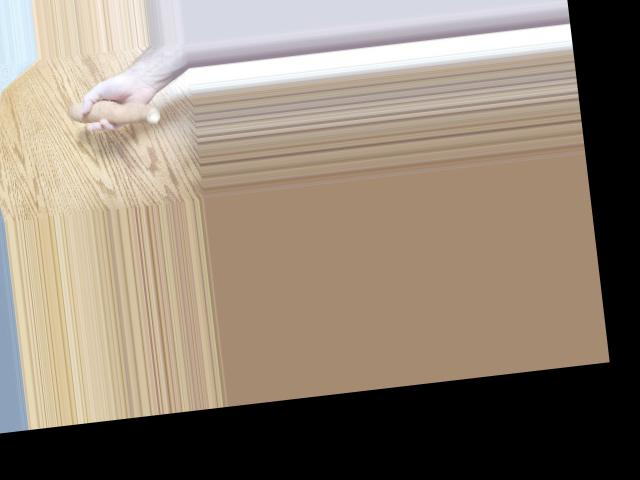sweet_potato: (59, 88, 163, 131)
